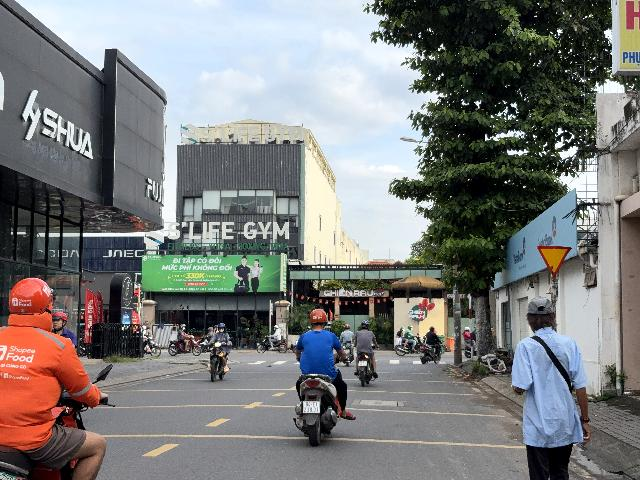giao-nhau-voi-duong-uu-tien: (537, 246, 572, 277)
